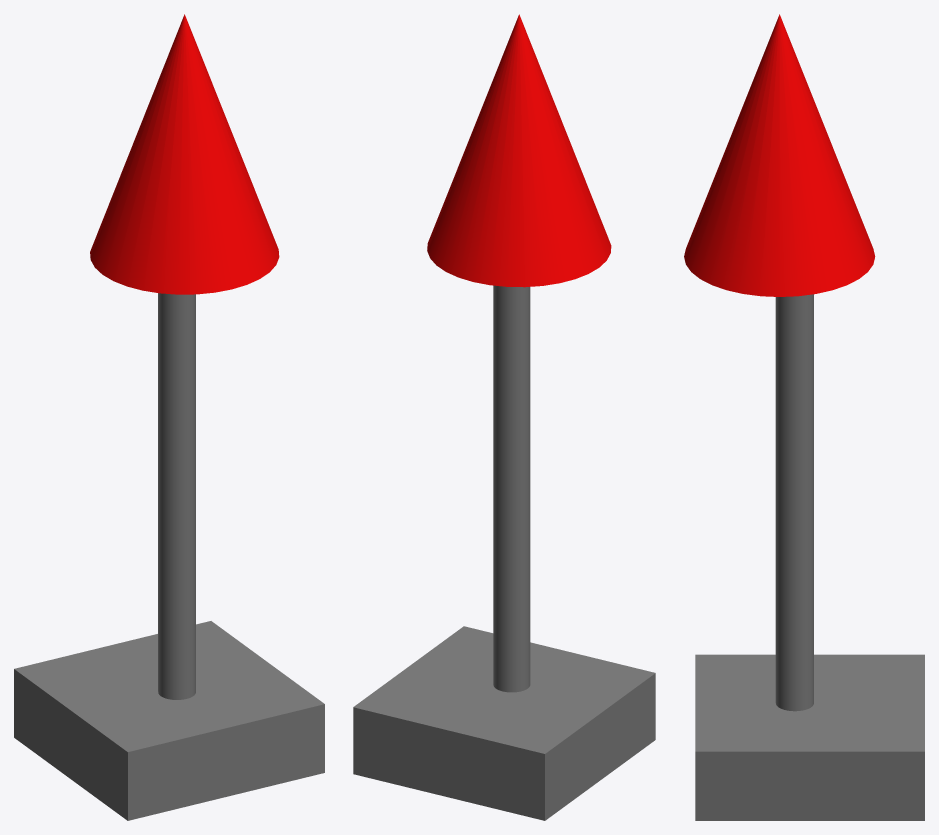
3 views of the same model, side by side, from view 1: azimuth 30°, elevation 25°; view 2: azimuth 150°, elevation 25°; view 3: azimuth 270°, elevation 25° (orthographic). The views are drawn at different scales.
Parts seen in each view (by area): view 1: base, shade, stem; view 2: base, shade, stem; view 3: base, shade, stem.
Boxes of the visible parts, x1,y1,x2,y2 form: base: [14, 621, 324, 820]; shade: [90, 14, 279, 294]; stem: [158, 293, 195, 699]; base: [353, 626, 655, 820]; shade: [427, 14, 611, 287]; stem: [493, 285, 530, 692]; base: [695, 654, 924, 820]; shade: [684, 14, 875, 296]; stem: [775, 294, 813, 711].
Bounding box in the file's own units: 0.3 × 1.09 × 0.315.
